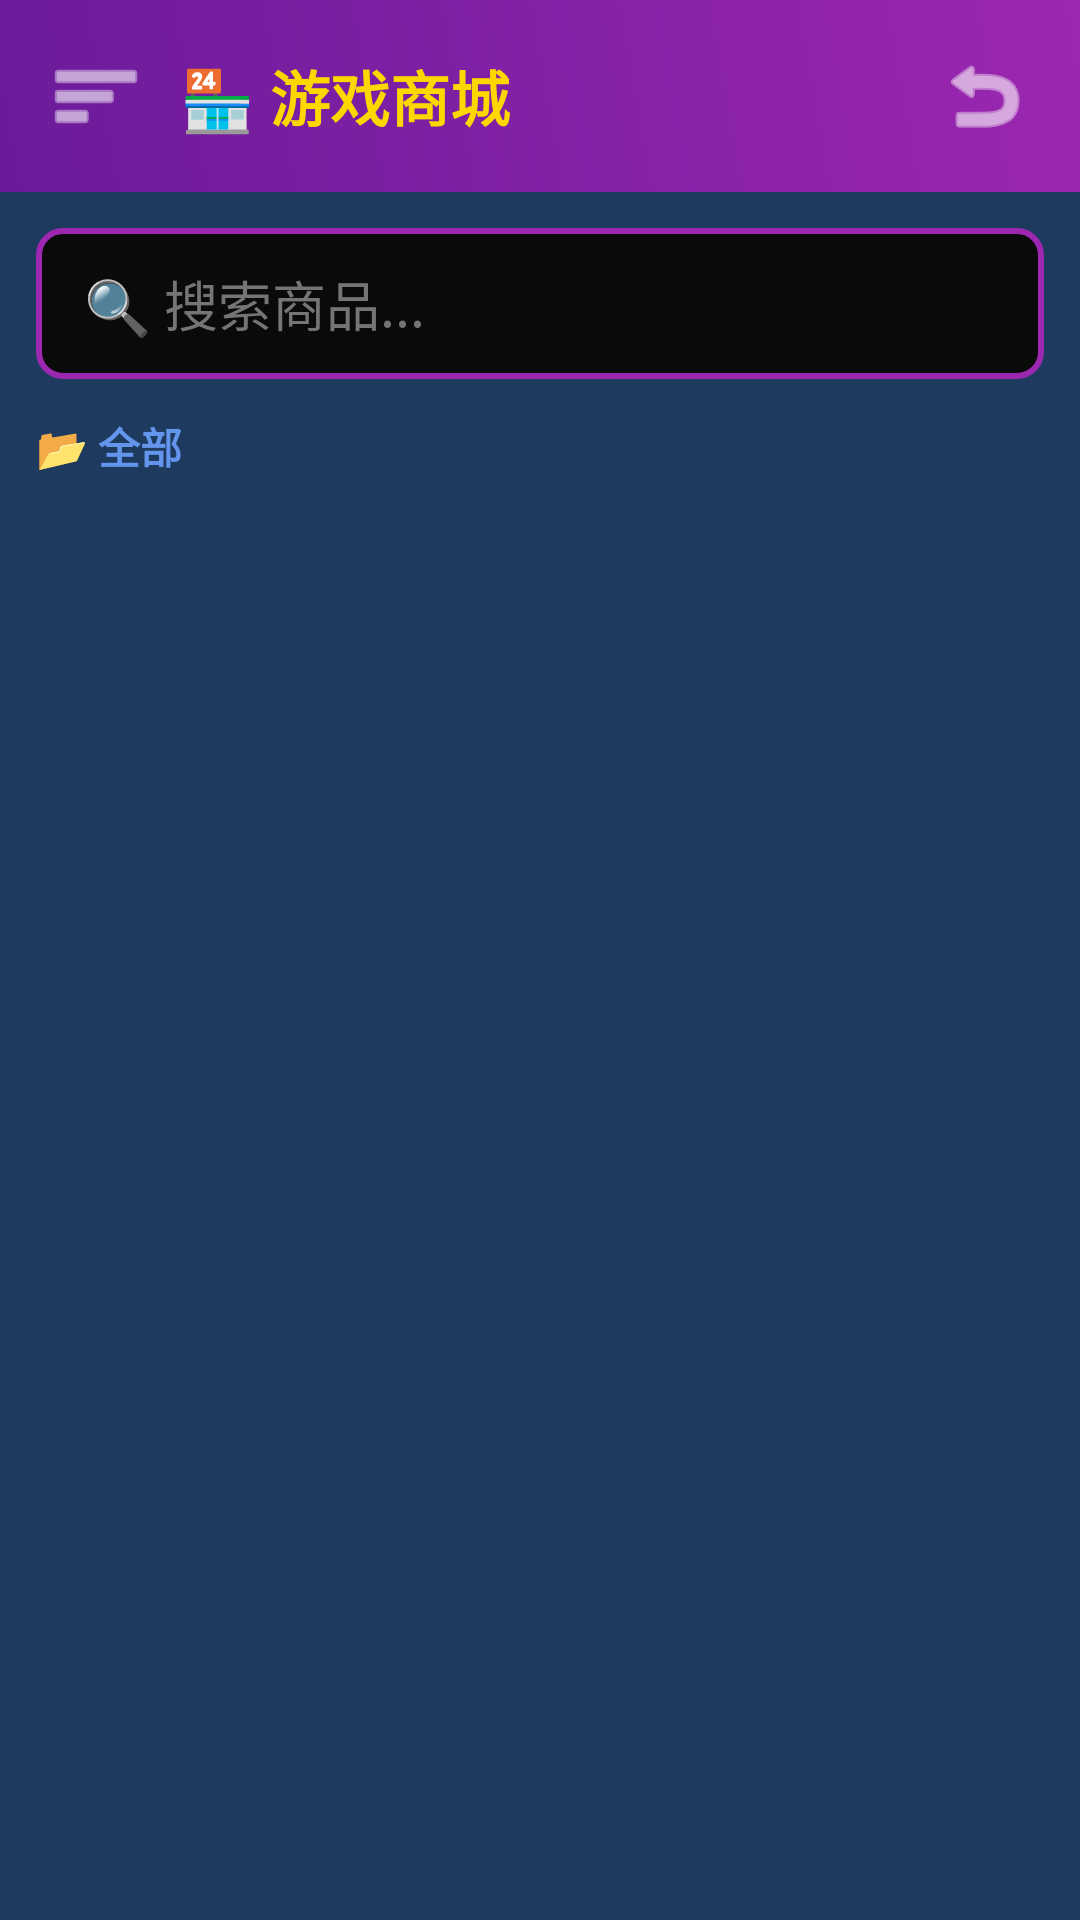

Where to tap for icons on this 1080w x 1920h app screen, as point (x, y):
菜单: point (96, 96)
返回: point (985, 96)
